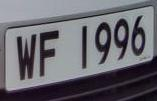1: (76, 21, 94, 72)
6: (129, 13, 148, 60)
9: (89, 16, 114, 68), (111, 16, 131, 64)
F: (37, 23, 63, 83)
W: (13, 28, 39, 86)
